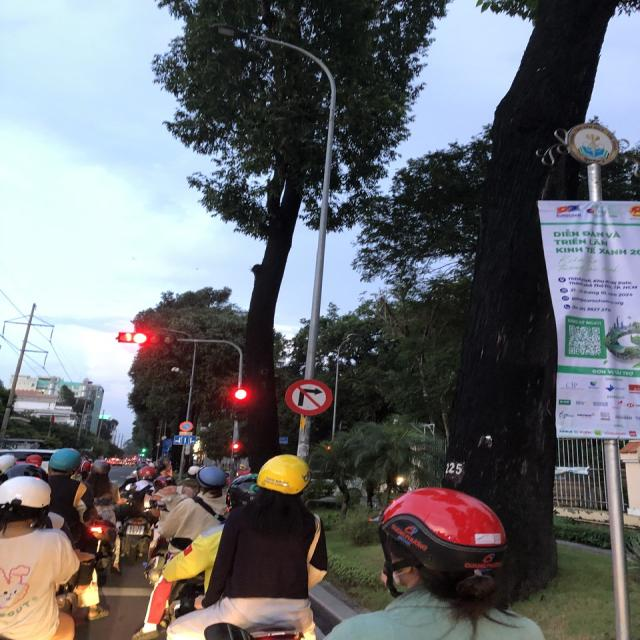Bien bao cam re phai: (283, 374, 339, 418)
